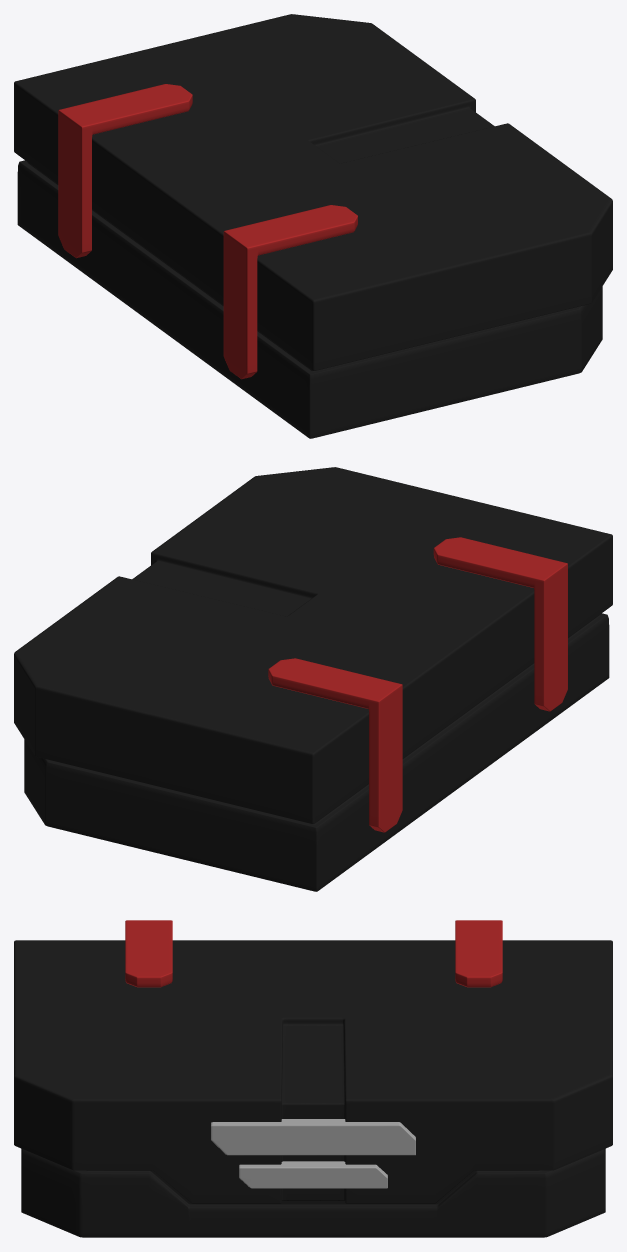
The model's file is MediPack_Hi.fbx.
3 renders of one model, top to bottom at view 1: azimuth 30°, elevation 25°; view 2: azimuth 150°, elevation 25°; view 3: azimuth 270°, elevation 25°, orthographic.
Visible parts, largest first — view 1: Body, Scharnier; view 2: Body, Scharnier; view 3: Body, Schnalle, Scharnier.
Boxes of the visible parts, x1,y1,x2,y2 form: Body: (14,14,612,438); Scharnier: (58,84,357,379); Body: (14,467,612,891); Scharnier: (268,537,567,832); Body: (14,940,612,1237); Schnalle: (211,1119,415,1188); Scharnier: (125,920,502,987).
Size of the model in its own units: 2.68 by 1.16 by 4.03.
